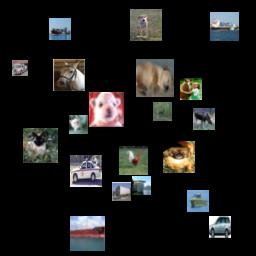automobile: (70, 155, 102, 187), (209, 216, 231, 238)
bird: (119, 146, 148, 175), (153, 102, 172, 121)
cat: (23, 128, 58, 163), (69, 115, 88, 134)
deer: (193, 108, 215, 130)
dog: (136, 59, 174, 97), (89, 92, 124, 127), (163, 141, 195, 173), (130, 9, 162, 41)
ship: (70, 216, 105, 251), (210, 12, 239, 41), (187, 190, 209, 212), (49, 18, 71, 40), (132, 176, 151, 195)
truck: (112, 182, 131, 201), (12, 60, 28, 76)
